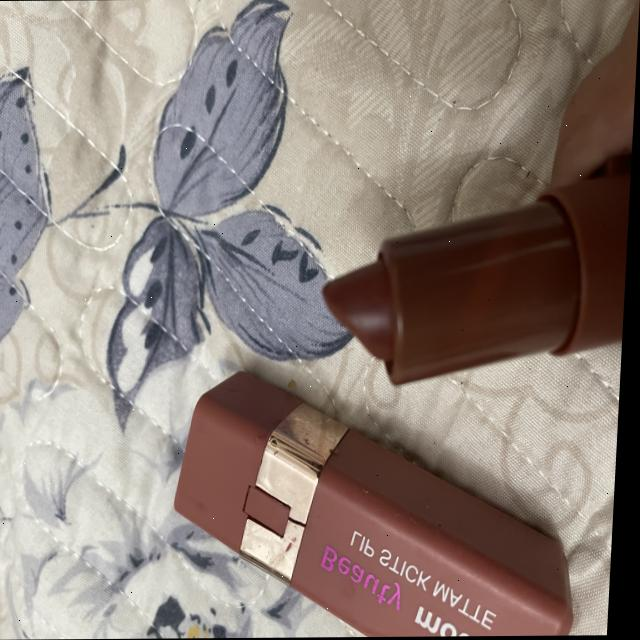lip stick: (155, 366, 625, 638), (291, 149, 634, 403)
